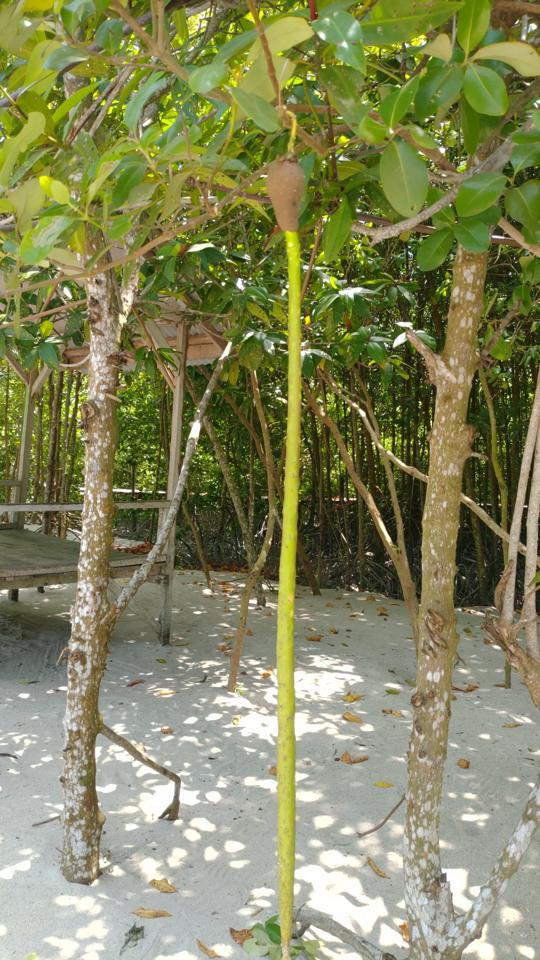mentah: (254, 147, 322, 953)
